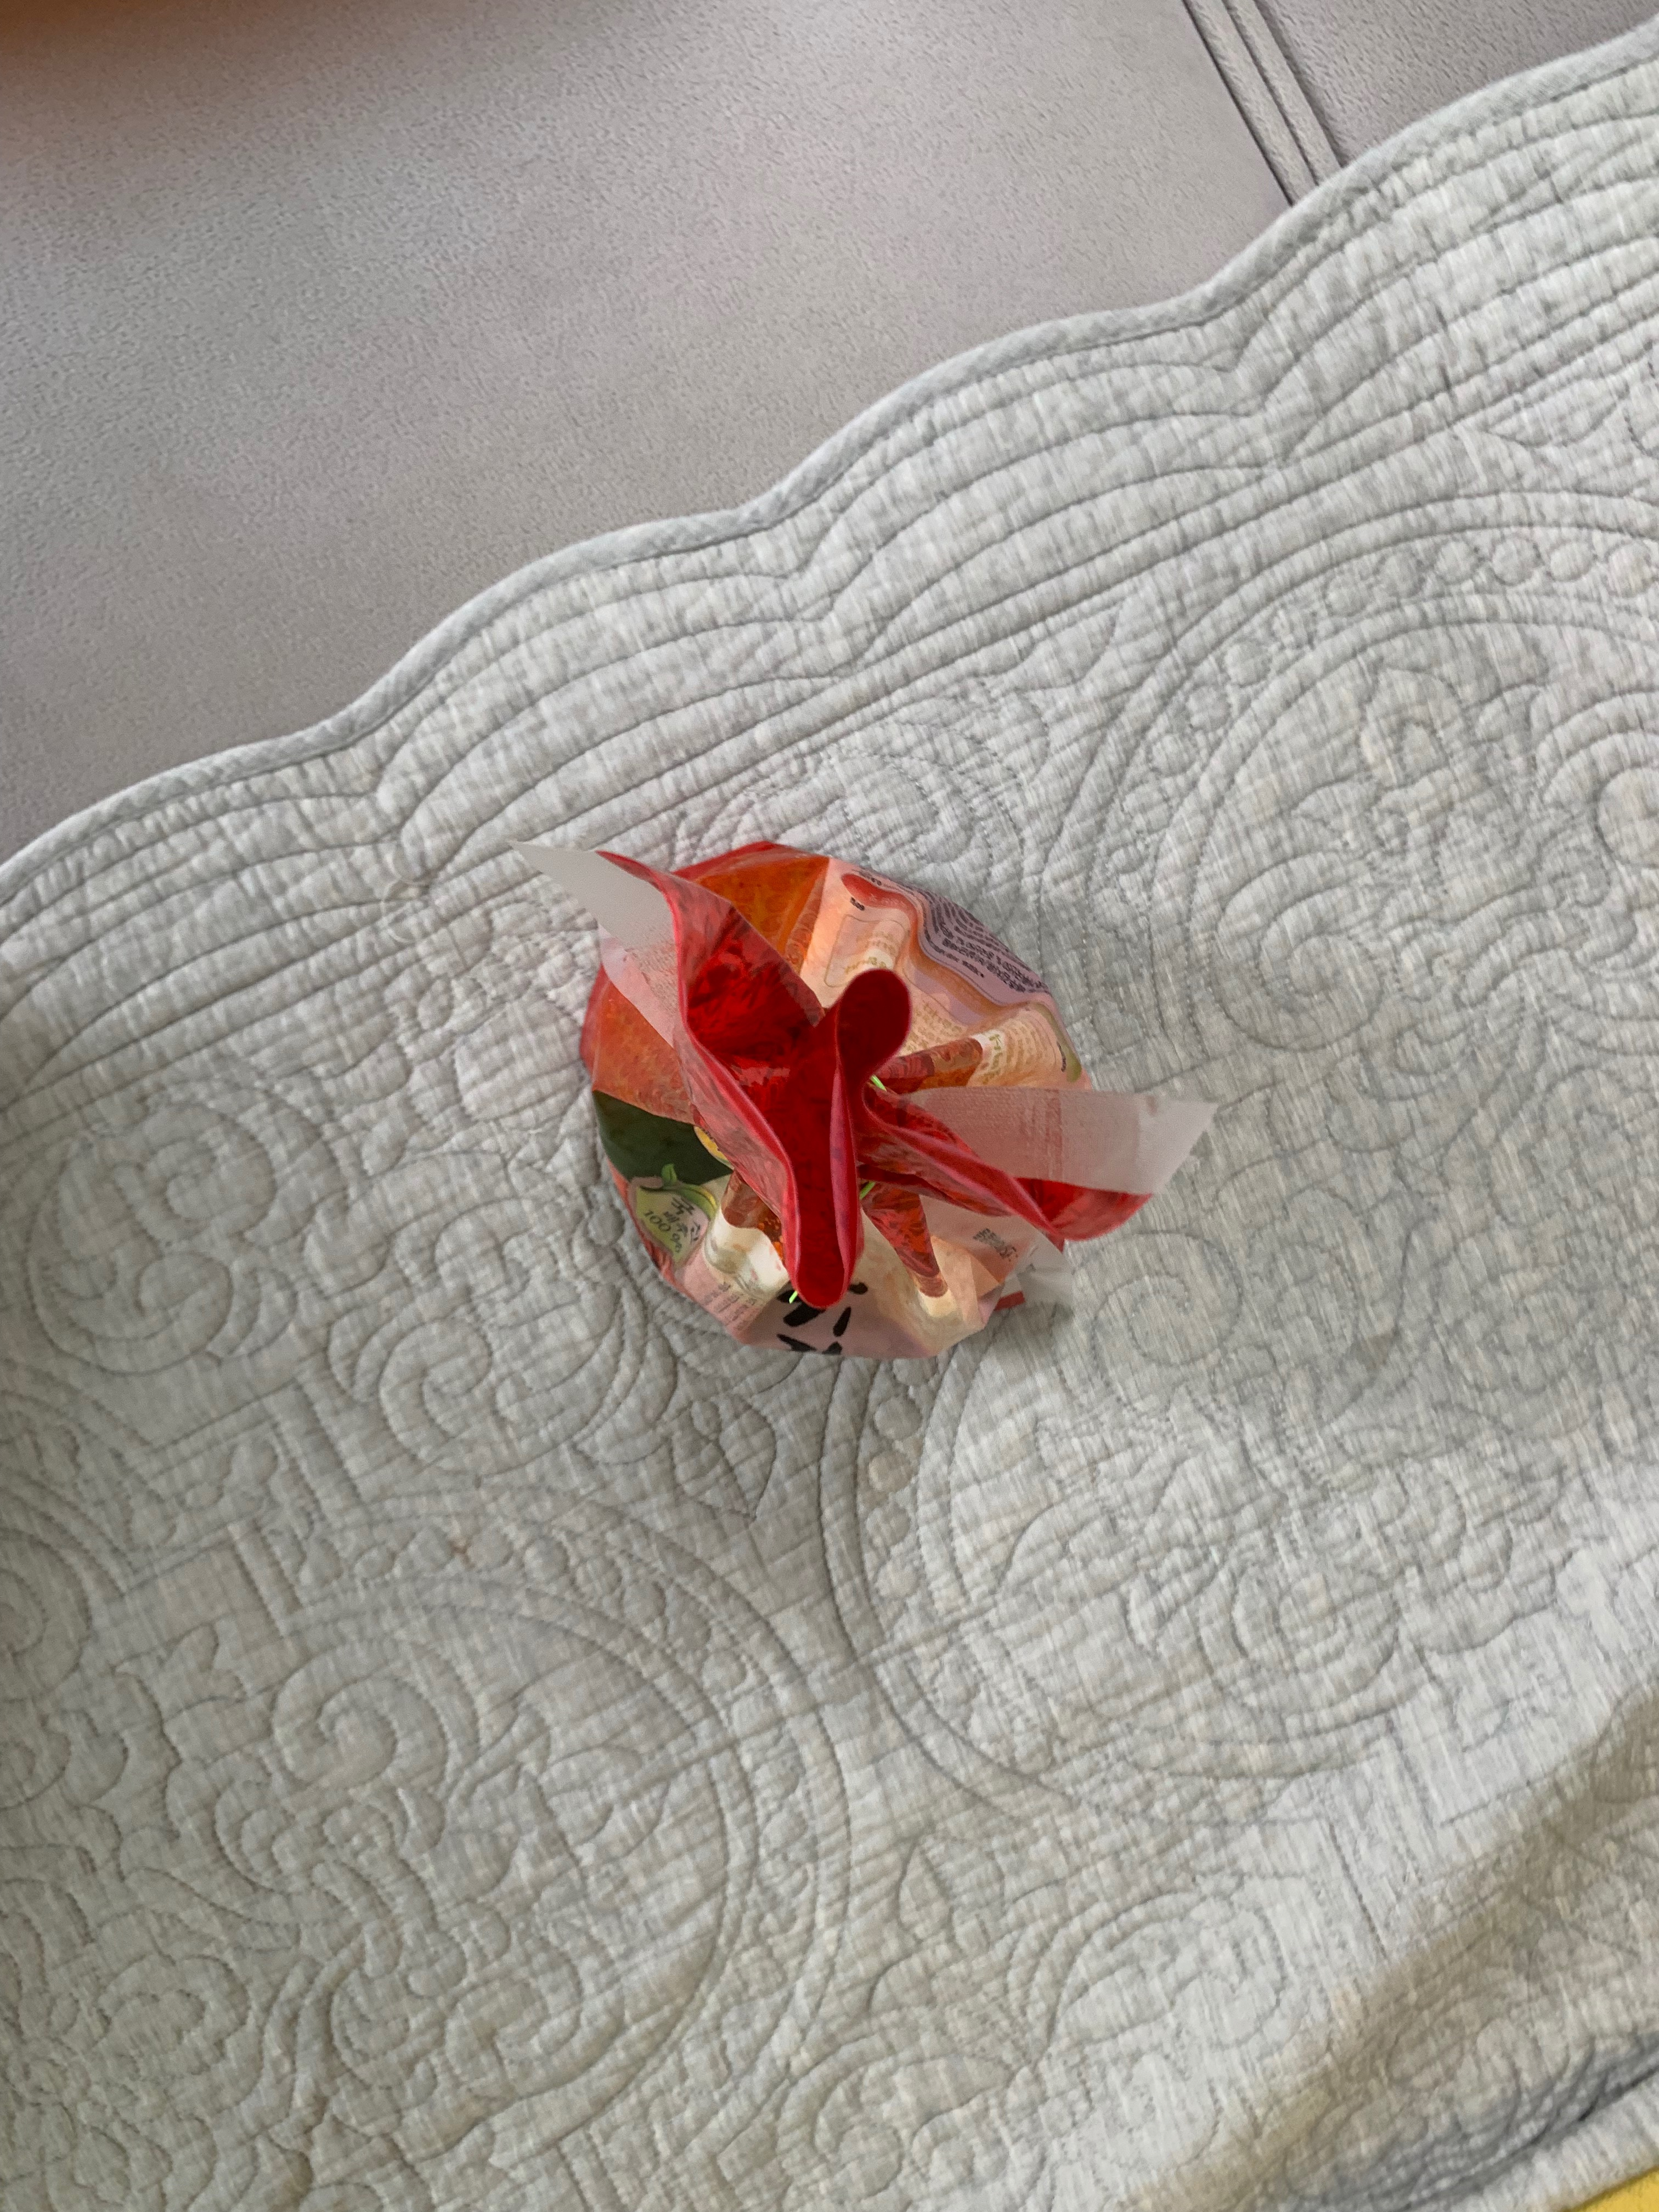kimchi: (582, 845, 1096, 1350)
